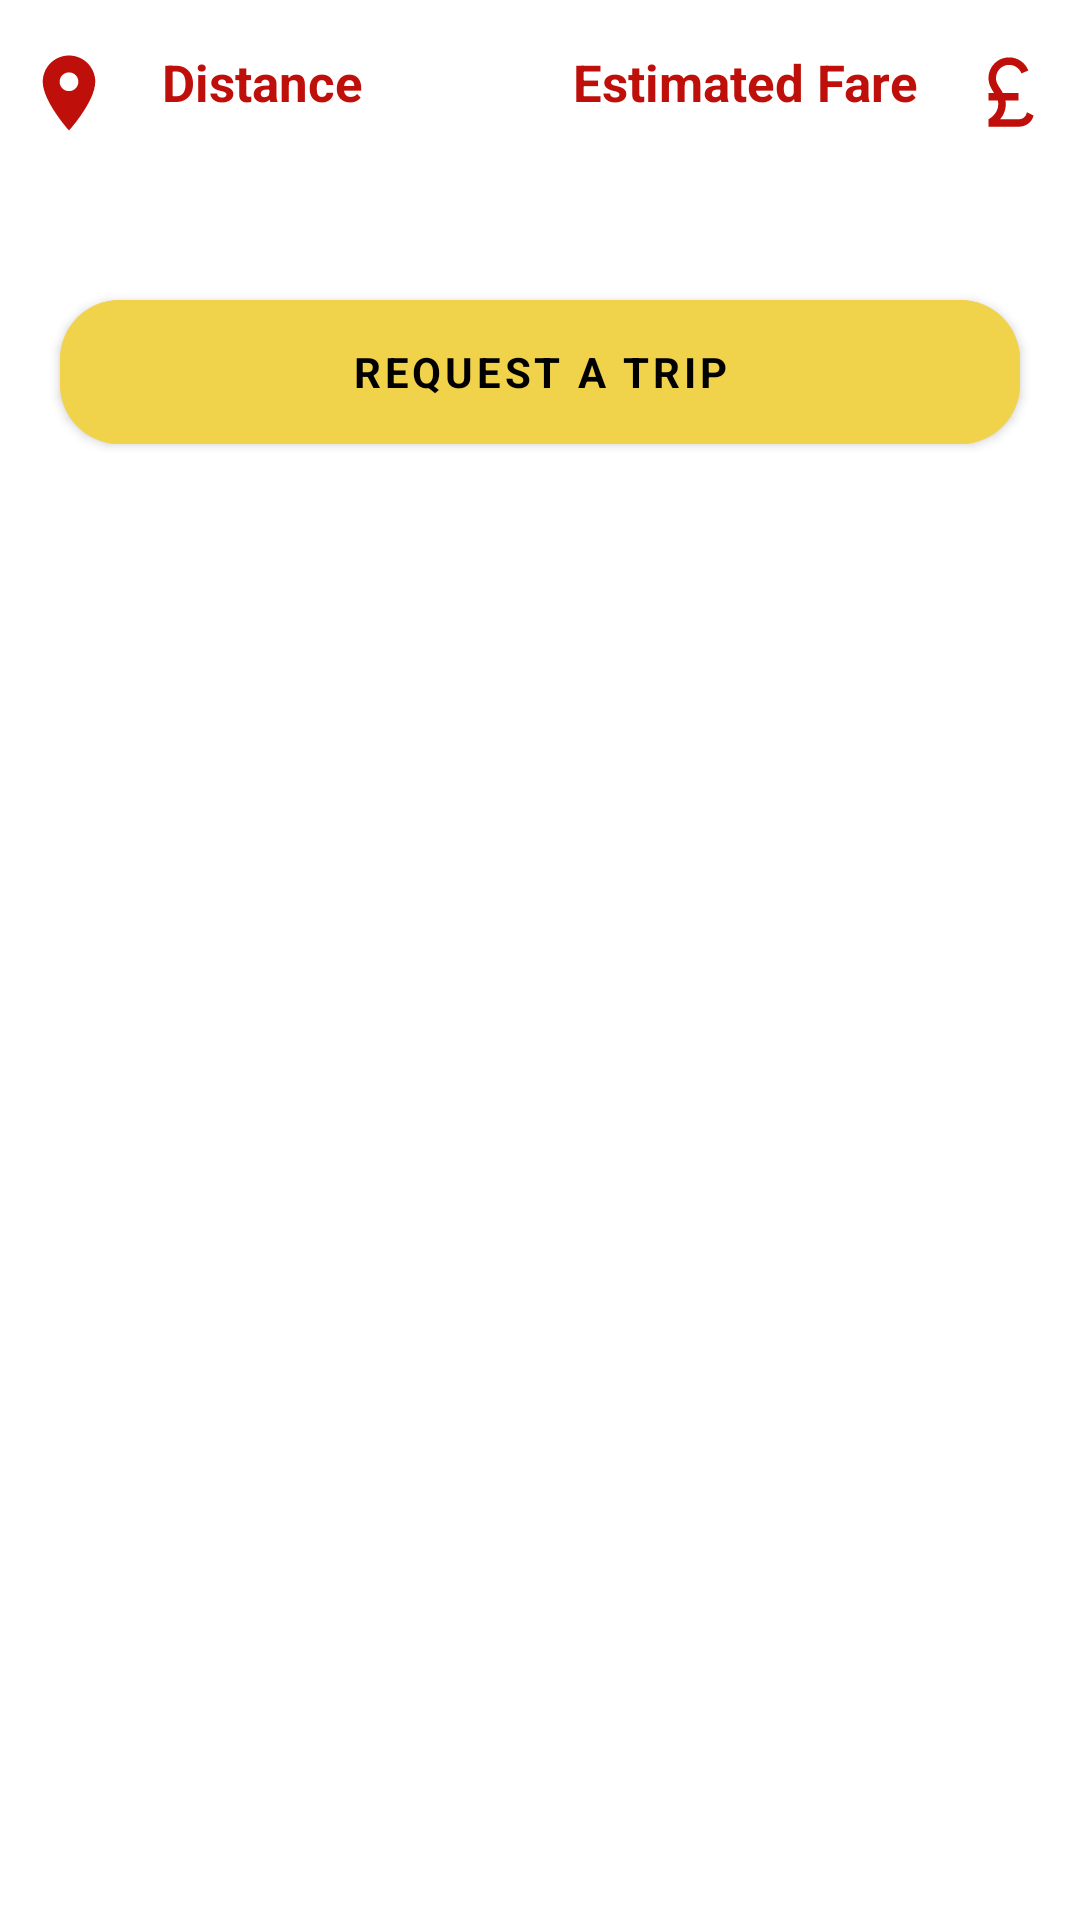

Icons on this 1080 x 1920 Android screen, each with its box as (x1, y1, x2, y2):
location: (42, 55, 96, 130)
pound: (988, 57, 1034, 127)
